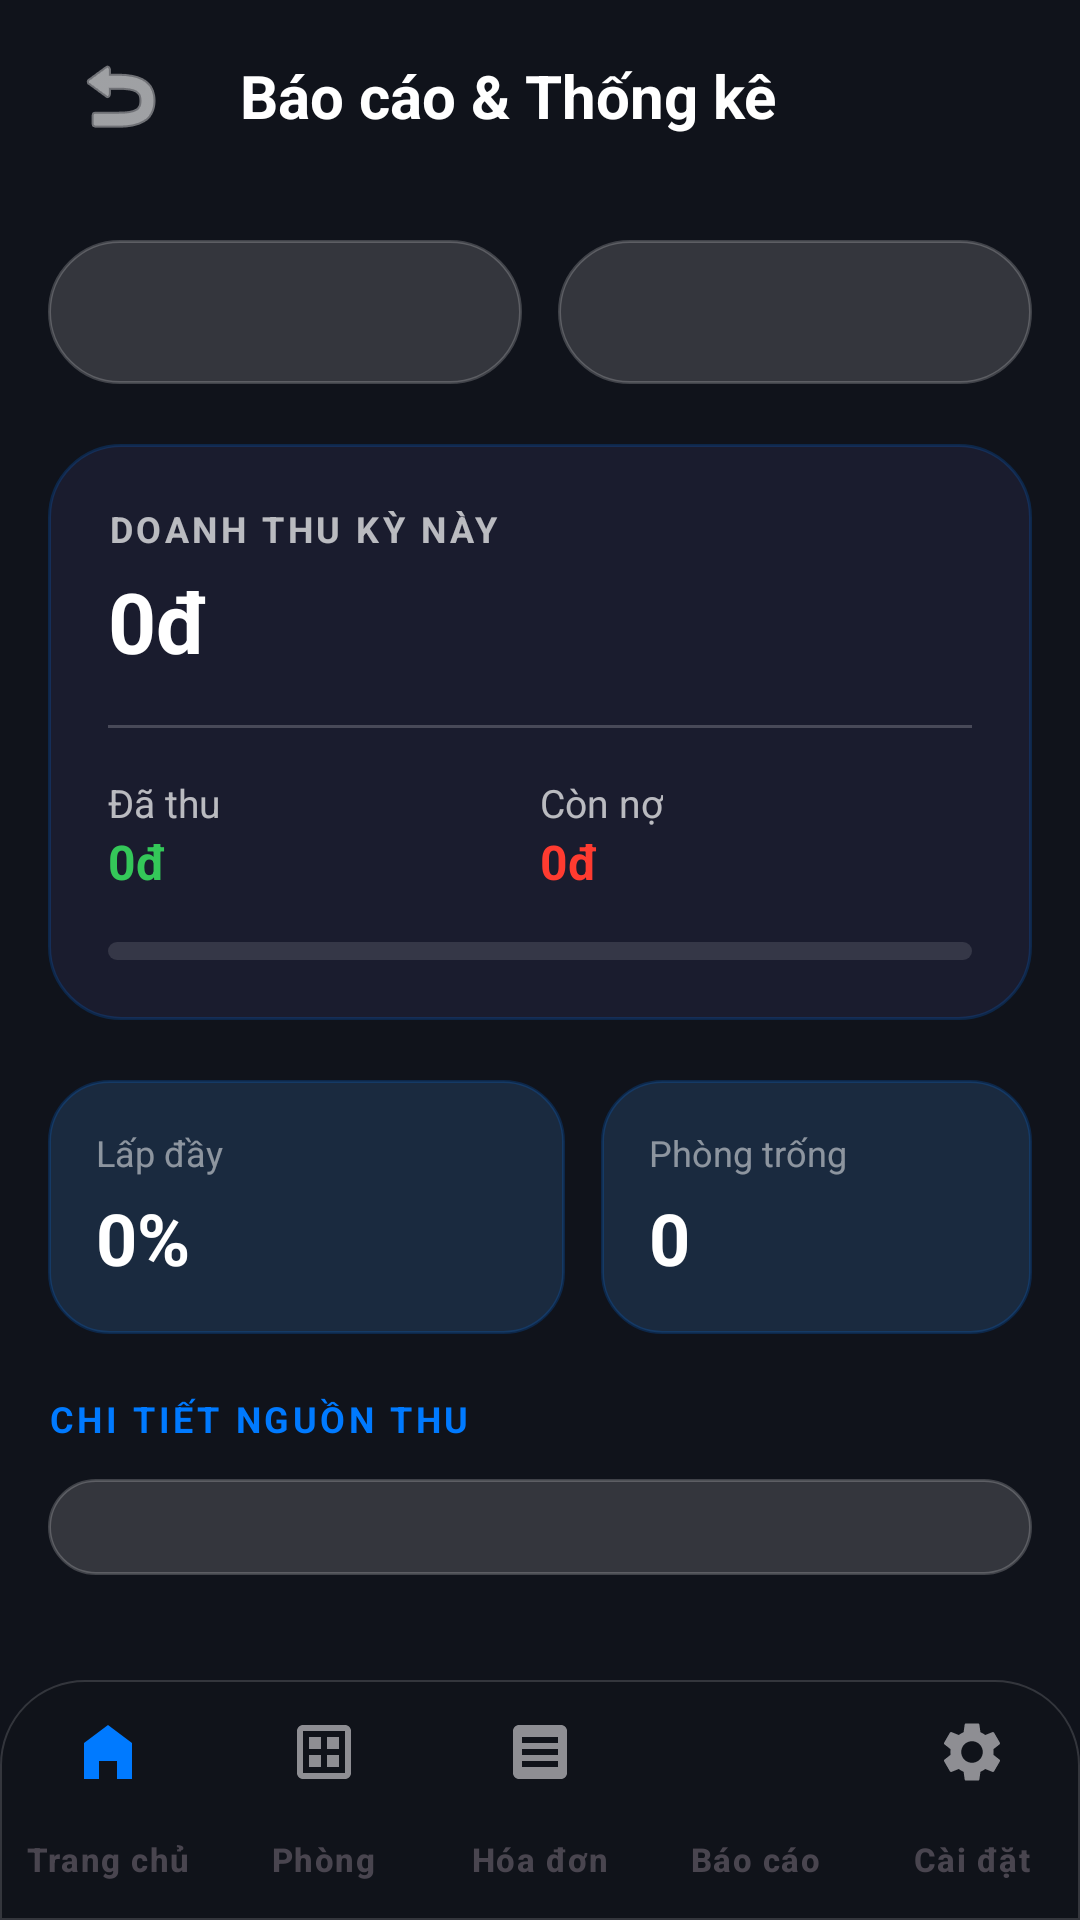

Screen size 1080px×1920px. Icon name, then its center in pixels as [x,y]:
revert: [121,96]
